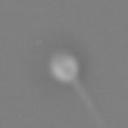normal: (72, 78, 106, 128)
